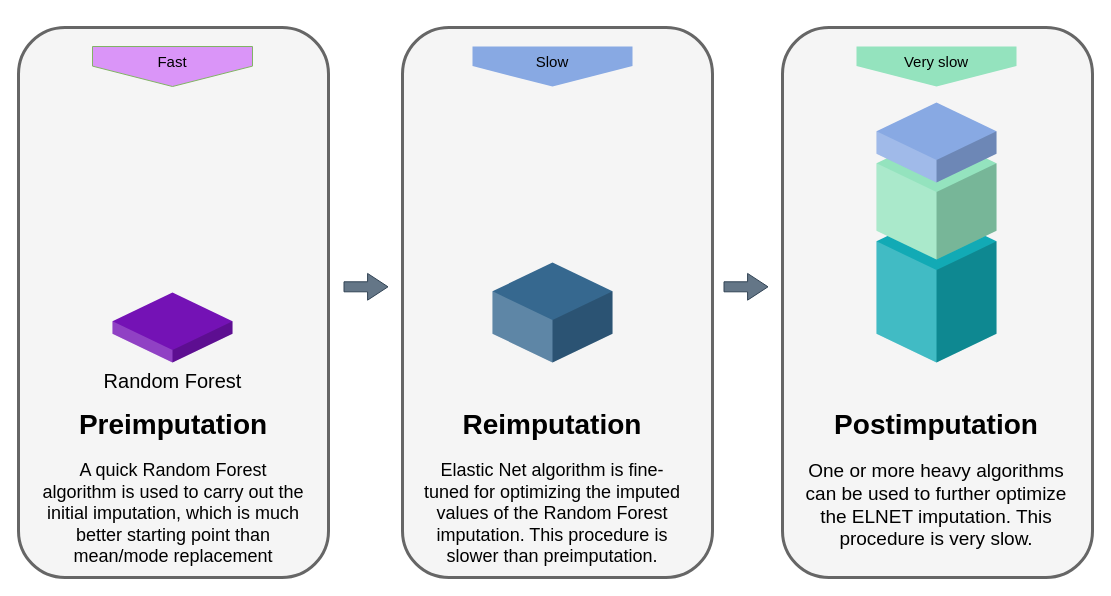
The diagram is 1111 pixels wide and 596 high, and some of its shapes have lost their labels. Each missing label, with the box of its shape:
ELNET: (492, 262, 612, 362)
GBM / XGBoost / DL / Ensemble: (876, 212, 996, 362)
